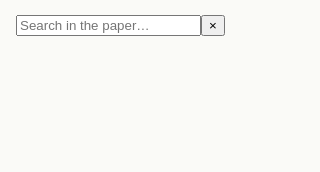
Scenario: a page whose text fails is skipped
In the search field labelled "Search": point(108, 26) [16,15,201,36], type "needle"
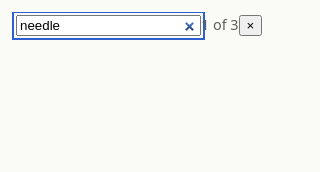
Now the text "1 of 3" is shown, box [201,15,239,34]
